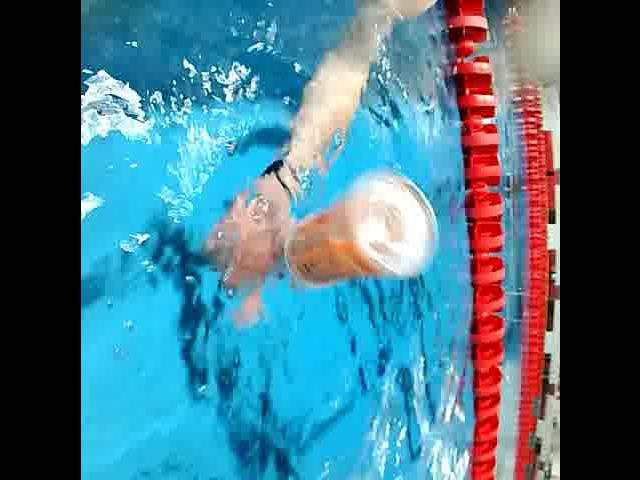Bottle: (248, 156, 452, 304)
